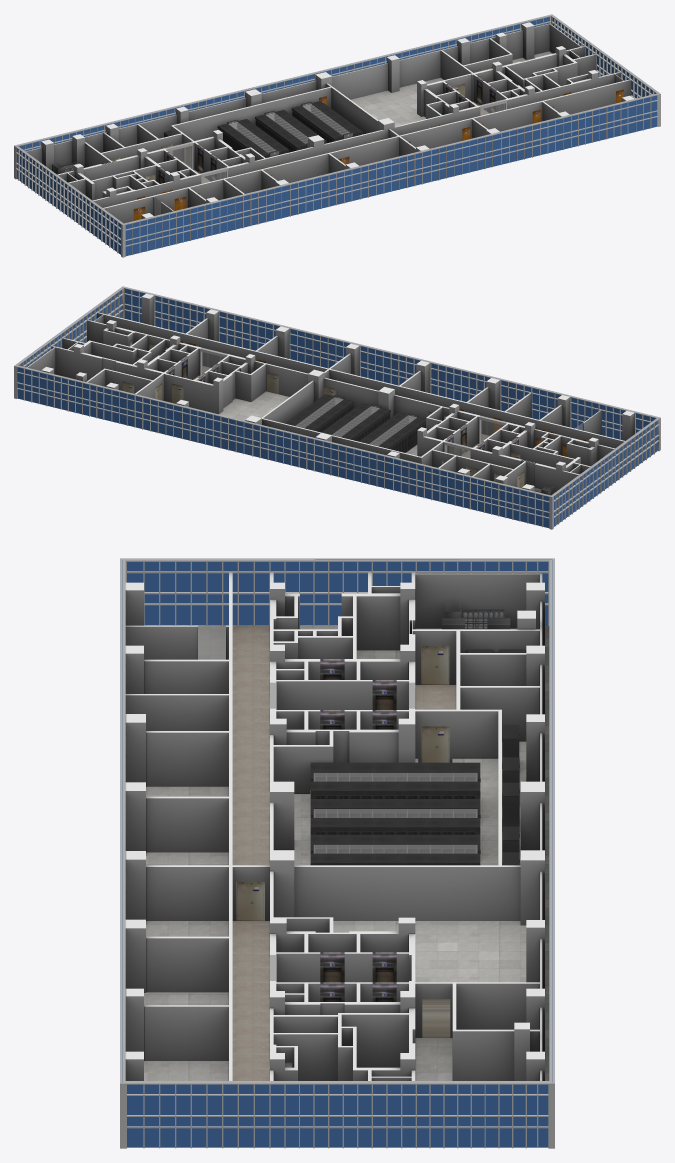
Rendered from LingShanBuilding_9F.gltf.
3 views of the same model, one above another, from view 1: azimuth 30°, elevation 25°; view 2: azimuth 150°, elevation 25°; view 3: azimuth 270°, elevation 25° (orthographic). The views are drawn at different scales.
Visible parts, largest first — view 1: 9f_wall, 9F_Glass, 6F_Windows004, 9F_Zhuzi, 9f_wallup, 9F_Floor_room, 9F_HUAWEI3_UP, 9F_HUAWEI_UP, 9F_HUAWEI2_UP, 9F_Loft, 9F_AutomaticDoor, 9F_Equipment02 (+8 smaller); view 2: 9f_wall, 9F_Glass, 6F_Windows004, 9F_Zhuzi, 9f_wallup, 9f_doubledoor, 9F_Floor_room, 9F_HUAWEI3_UP, 9F_HUAWEI2_UP, 9F_HUAWEI_UP, 9F_AutomaticDoor, 9F_Loft (+7 smaller); view 3: 9f_wall, 9F_Glass, 9F_Zhuzi, 6F_Windows004, 9F_Floor_room, 9F_Floor_corridor, 9F_HUAWEI_UP, 9F_Loft, 9F_HUAWEI2_UP, 9F_HUAWEI3_UP, 9f_doubledoor, 9f_wallup (+10 smaller).
Boxes of the visible parts, x1=… form: 9f_wall: x1=25, y1=23, x2=631, y2=223; 9F_Glass: x1=17, y1=17, x2=657, y2=256; 6F_Windows004: x1=14, y1=14, x2=660, y2=257; 9F_Zhuzi: x1=41, y1=22, x2=633, y2=219; 9f_wallup: x1=102, y1=58, x2=623, y2=208; 9F_Floor_room: x1=351, y1=51, x2=552, y2=126; 9F_HUAWEI3_UP: x1=291, y1=101, x2=362, y2=140; 9F_HUAWEI_UP: x1=217, y1=119, x2=289, y2=157; 9F_HUAWEI2_UP: x1=255, y1=110, x2=326, y2=149; 9F_Loft: x1=158, y1=76, x2=496, y2=183; 9F_AutomaticDoor: x1=155, y1=103, x2=505, y2=215; 9F_Equipment02: x1=292, y1=101, x2=361, y2=143; 9f_wall: x1=27, y1=312, x2=624, y2=493; 9F_Glass: x1=17, y1=289, x2=657, y2=527; 6F_Windows004: x1=14, y1=286, x2=660, y2=529; 9F_Zhuzi: x1=41, y1=293, x2=634, y2=491; 9f_wallup: x1=104, y1=314, x2=595, y2=475; 9f_doubledoor: x1=122, y1=343, x2=524, y2=488; 9F_Floor_room: x1=56, y1=374, x2=289, y2=420; 9F_HUAWEI3_UP: x1=285, y1=394, x2=354, y2=430; 9F_HUAWEI2_UP: x1=322, y1=403, x2=390, y2=439; 9F_HUAWEI_UP: x1=359, y1=412, x2=425, y2=449; 9F_AutomaticDoor: x1=202, y1=352, x2=582, y2=458; 9F_Loft: x1=167, y1=356, x2=518, y2=455; 9f_wall: x1=125, y1=571, x2=542, y2=1080; 9F_Glass: x1=122, y1=559, x2=552, y2=1147; 9F_Zhuzi: x1=125, y1=582, x2=544, y2=1080; 6F_Windows004: x1=120, y1=558, x2=554, y2=1148; 9F_Floor_room: x1=144, y1=625, x2=549, y2=1080; 9F_Floor_corridor: x1=232, y1=625, x2=456, y2=1080; 9F_HUAWEI_UP: x1=310, y1=762, x2=480, y2=795; 9F_Loft: x1=320, y1=659, x2=396, y2=1001; 9F_HUAWEI2_UP: x1=310, y1=799, x2=480, y2=831; 9F_HUAWEI3_UP: x1=310, y1=834, x2=480, y2=865; 9f_doubledoor: x1=237, y1=646, x2=450, y2=1037; 9f_wallup: x1=229, y1=606, x2=501, y2=1080.
Size of the model in its own units: 5331 by 309 by 1867.
93 materials, 89 textured.
